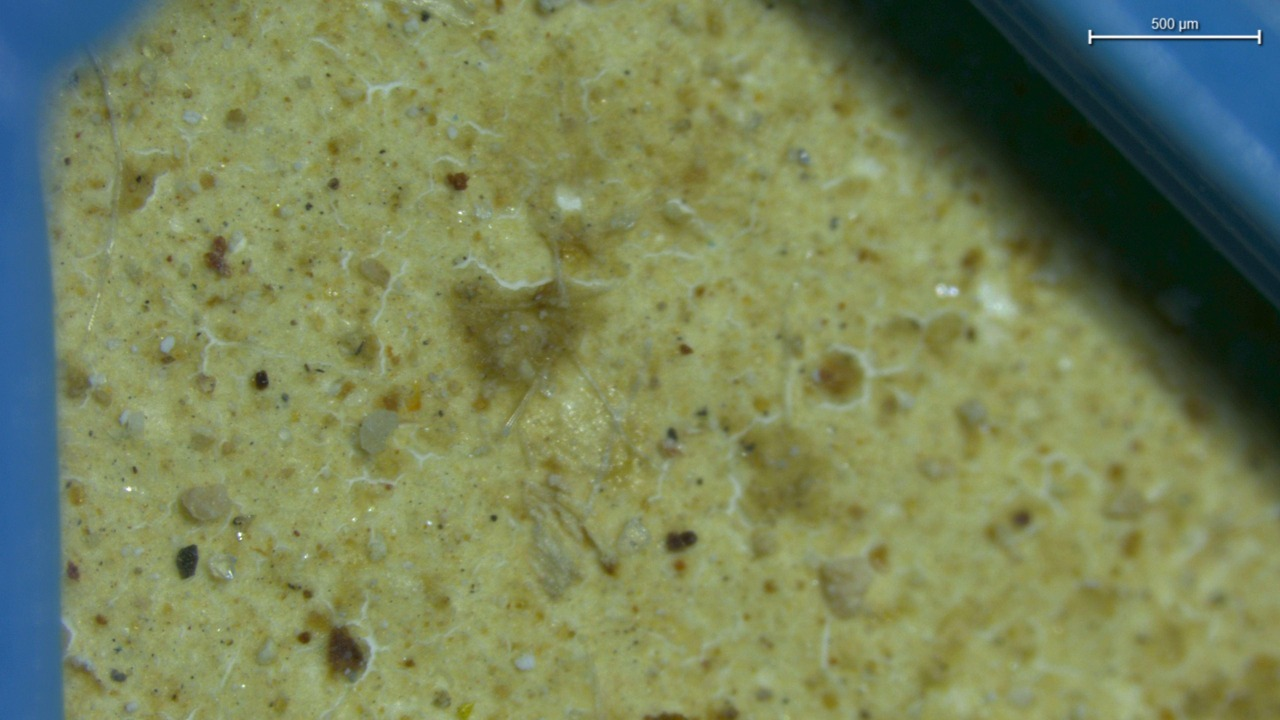microplastic_fragment: (817, 555, 875, 618), (179, 484, 232, 522), (358, 410, 398, 455)
